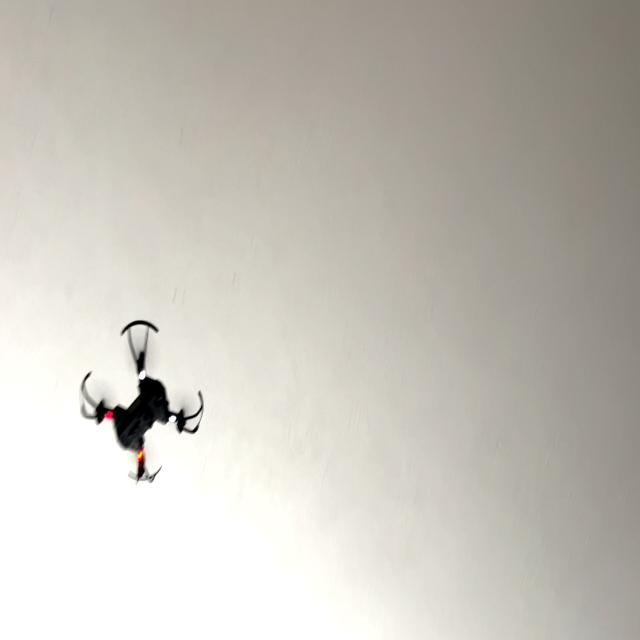drone: (68, 293, 212, 504)
